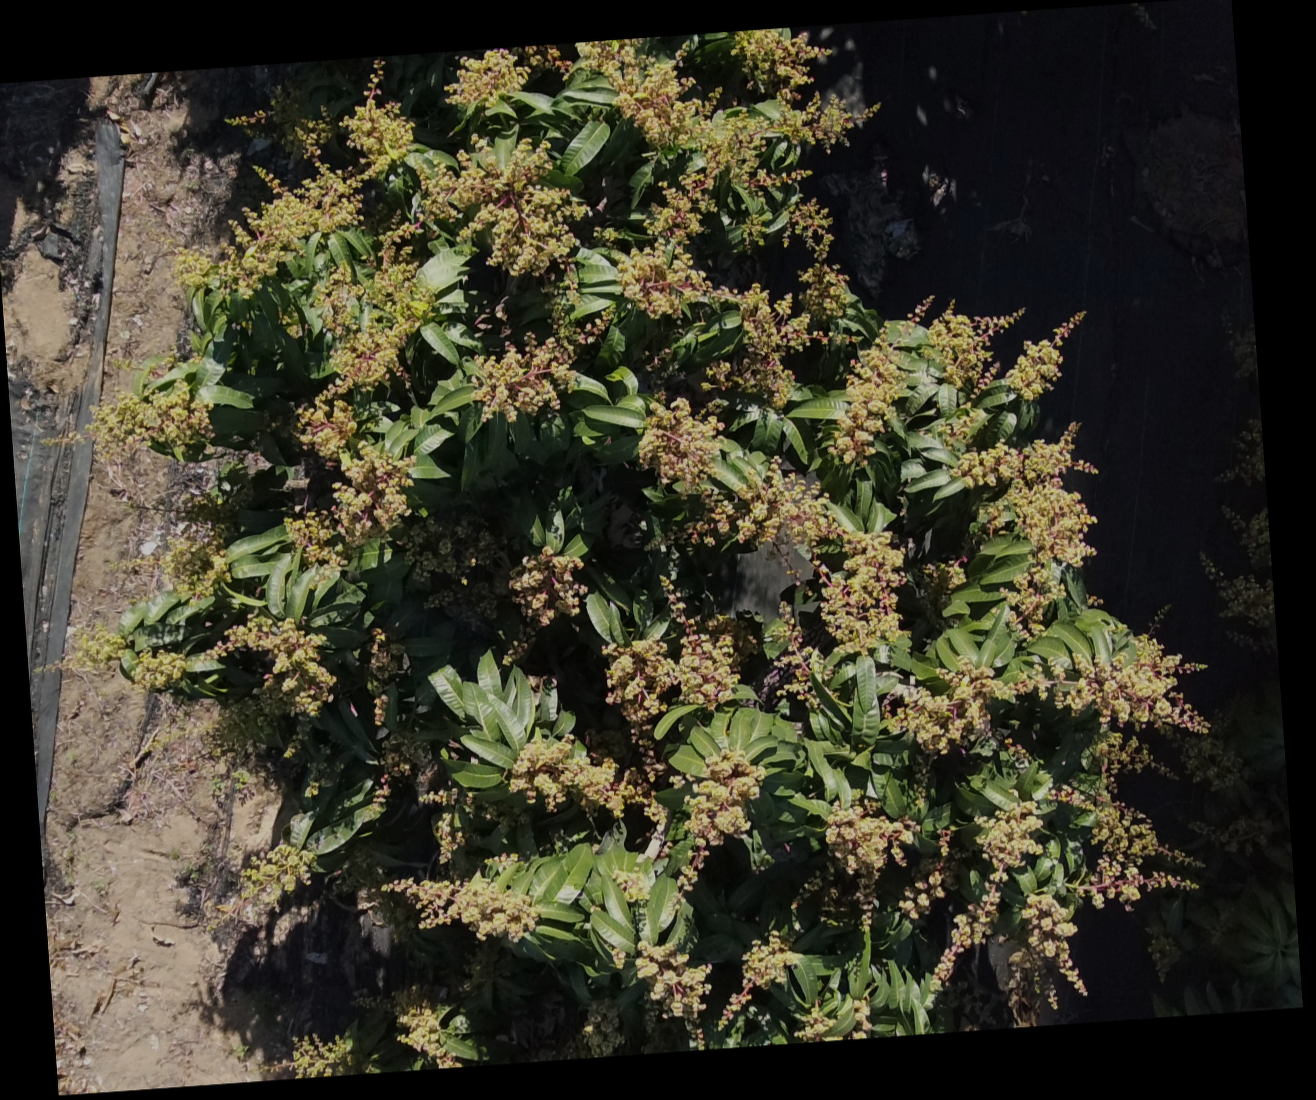flowers: (584, 32, 876, 274), (694, 455, 902, 657), (1051, 732, 1194, 909), (421, 134, 586, 277), (178, 168, 363, 294), (697, 265, 854, 408), (602, 580, 738, 728), (952, 428, 1093, 570), (314, 227, 434, 393), (299, 393, 414, 545), (884, 653, 1045, 752), (1051, 635, 1202, 737), (470, 314, 615, 419), (209, 615, 334, 732), (508, 733, 660, 820), (825, 332, 907, 464), (384, 875, 537, 945), (818, 531, 905, 653), (921, 302, 1024, 394), (89, 384, 209, 457), (338, 63, 412, 177), (636, 397, 722, 492), (225, 87, 334, 161), (682, 750, 766, 844), (714, 931, 798, 1025), (928, 885, 1002, 985), (443, 47, 572, 105), (1002, 314, 1086, 399), (824, 803, 917, 874), (731, 28, 829, 94), (507, 545, 586, 625), (635, 939, 710, 1021), (1022, 892, 1081, 996), (619, 248, 706, 318), (895, 830, 954, 918), (239, 841, 315, 910), (396, 986, 458, 1068), (1201, 552, 1272, 622), (974, 801, 1042, 873), (769, 602, 816, 703), (160, 533, 228, 600), (1000, 563, 1064, 635), (380, 732, 442, 803), (287, 1033, 377, 1075), (286, 510, 343, 567), (61, 623, 126, 672), (798, 261, 849, 321), (1224, 506, 1268, 567), (578, 999, 622, 1056), (935, 405, 987, 447), (366, 627, 408, 680), (131, 648, 185, 690), (1147, 925, 1180, 982), (1237, 417, 1262, 483), (832, 996, 871, 1038), (432, 811, 463, 862), (675, 847, 709, 892), (921, 560, 965, 594), (1231, 325, 1255, 383), (611, 868, 649, 903), (906, 296, 935, 321), (280, 311, 302, 339), (372, 693, 389, 725), (936, 828, 952, 856), (610, 946, 625, 969), (1086, 594, 1102, 607)
